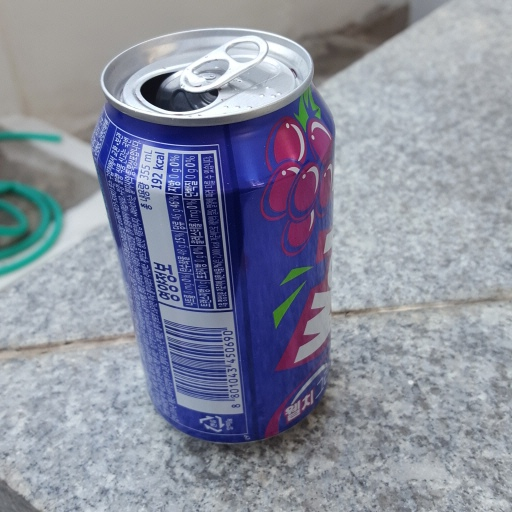Metal_0: (91, 26, 338, 448)
